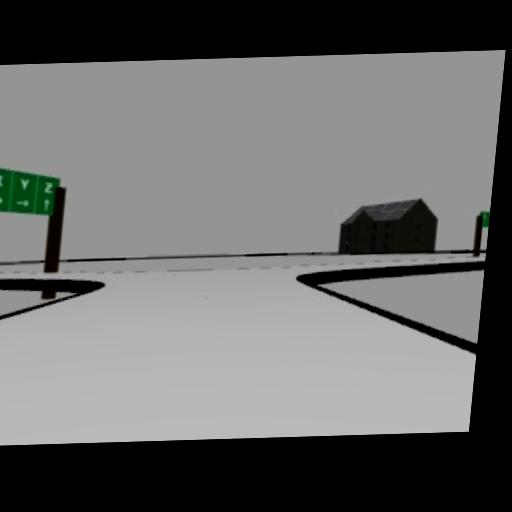Right: (14, 198, 30, 207), (0, 195, 5, 204)
Straight: (42, 198, 52, 212)
X: (0, 174, 5, 187)
Y: (18, 176, 30, 191)
Z: (42, 181, 53, 193)
